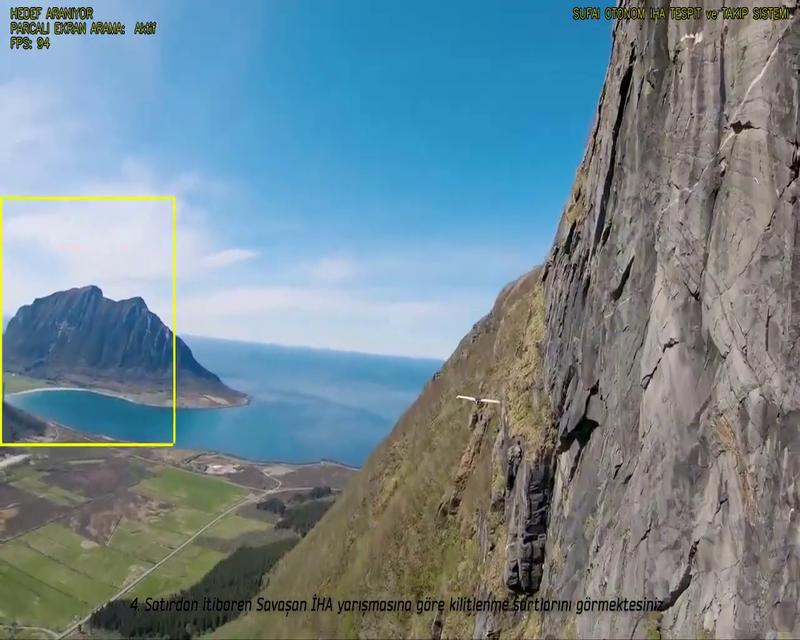UAV: (455, 394, 501, 406)
